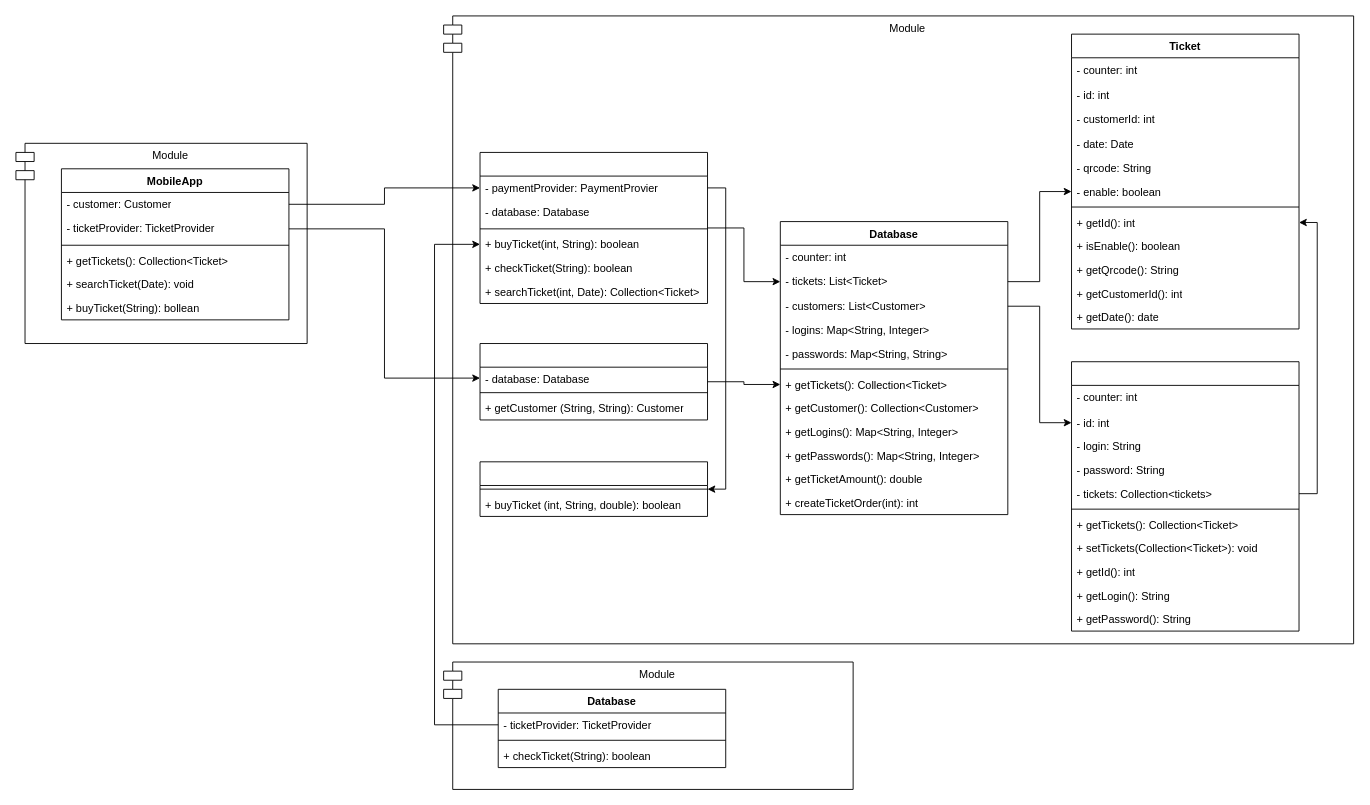
Image size: 1370x805. Some labels were removed from this diagram. The box of each missing label's shape, as (x1, y1, x2, y2) in pixels:
Customer: (1071, 361, 1299, 631)
CustomerProvider: (479, 343, 708, 420)
PaymentProvider: (479, 461, 708, 516)
TicketProvider: (479, 152, 708, 303)
